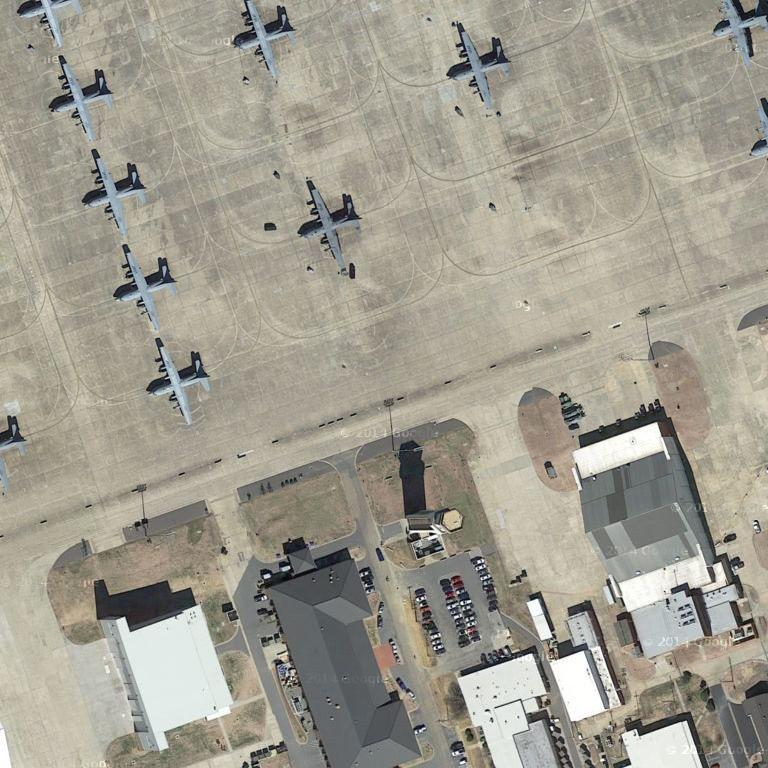C-130: (112, 241, 177, 329), (82, 149, 148, 235), (299, 180, 363, 265), (146, 340, 208, 425), (446, 23, 511, 104), (49, 54, 112, 137), (233, 2, 294, 79), (706, 1, 768, 62)
